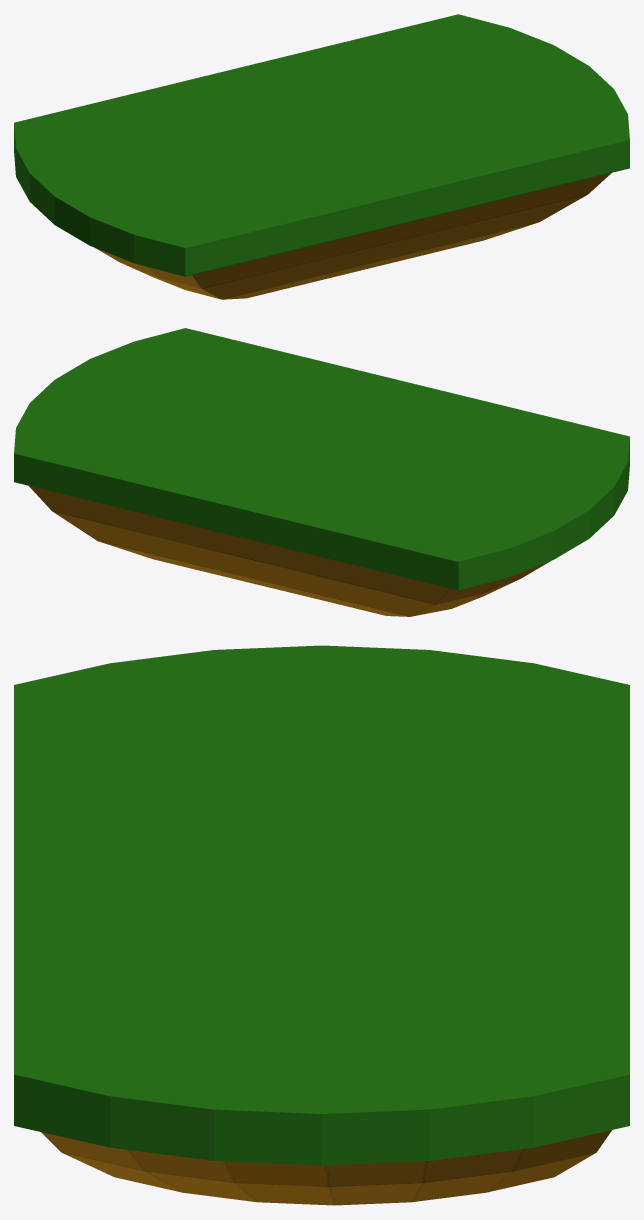
Rendered from platform3.fbx.
The picture shows the model from 3 angles, top to bottom: view 1: azimuth 30°, elevation 25°; view 2: azimuth 150°, elevation 25°; view 3: azimuth 270°, elevation 25°; orthographic projection. The views are drawn at different scales.
Parts seen in each view (by area): view 1: Platform3; view 2: Platform3; view 3: Platform3.
Boxes of the visible parts, x1,y1,x2,y2 form: Platform3: (14, 14, 629, 299); Platform3: (14, 328, 629, 616); Platform3: (14, 645, 629, 1205).
Size of the model in its own units: 208 by 42.63 by 116.
